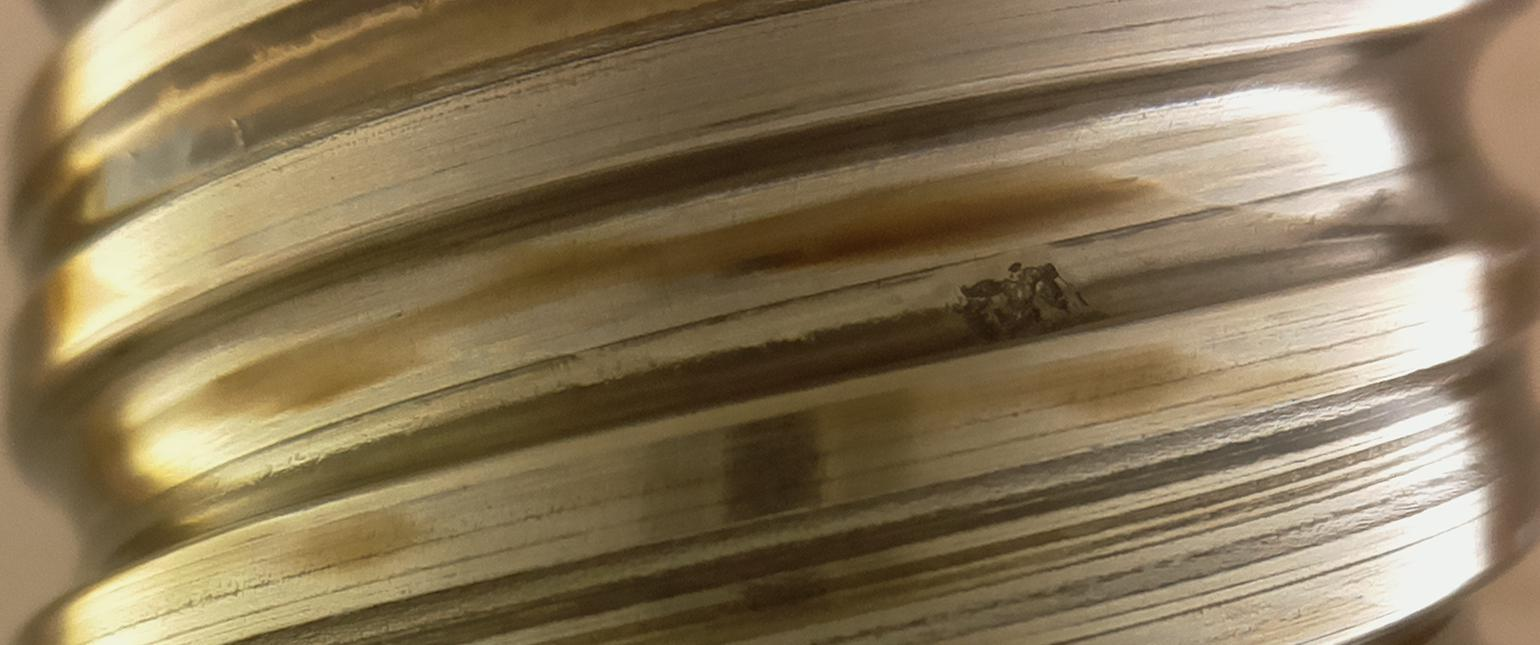pitting: (951, 262, 1089, 345)
